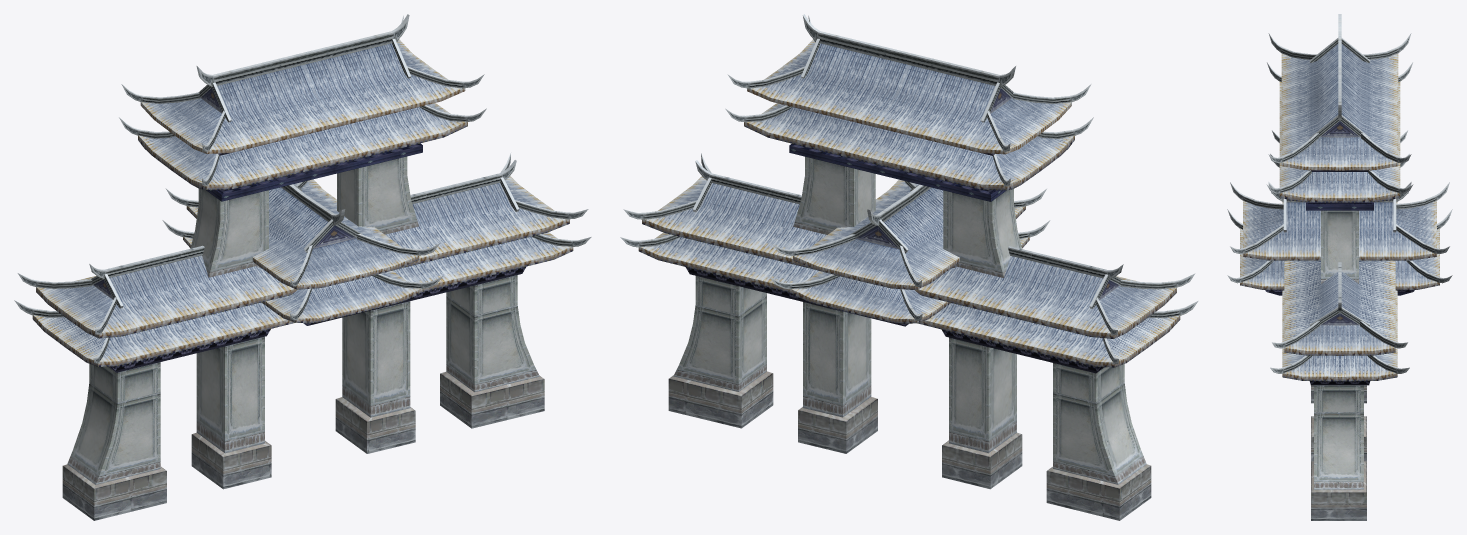
The model's file is jz_damen_01.FBX.
3 views of the same model, side by side, from view 1: azimuth 30°, elevation 25°; view 2: azimuth 150°, elevation 25°; view 3: azimuth 270°, elevation 25° (orthographic). The views are drawn at different scales.
Parts seen in each view (by area): view 1: jz_damen_01; view 2: jz_damen_01; view 3: jz_damen_01.
Boxes of the visible parts, bbox=[...] form: jz_damen_01: bbox=[14, 14, 591, 520]; jz_damen_01: bbox=[620, 14, 1198, 520]; jz_damen_01: bbox=[1227, 14, 1452, 520].
Bounding box in the file's own units: 4393 × 3484 × 1954.
